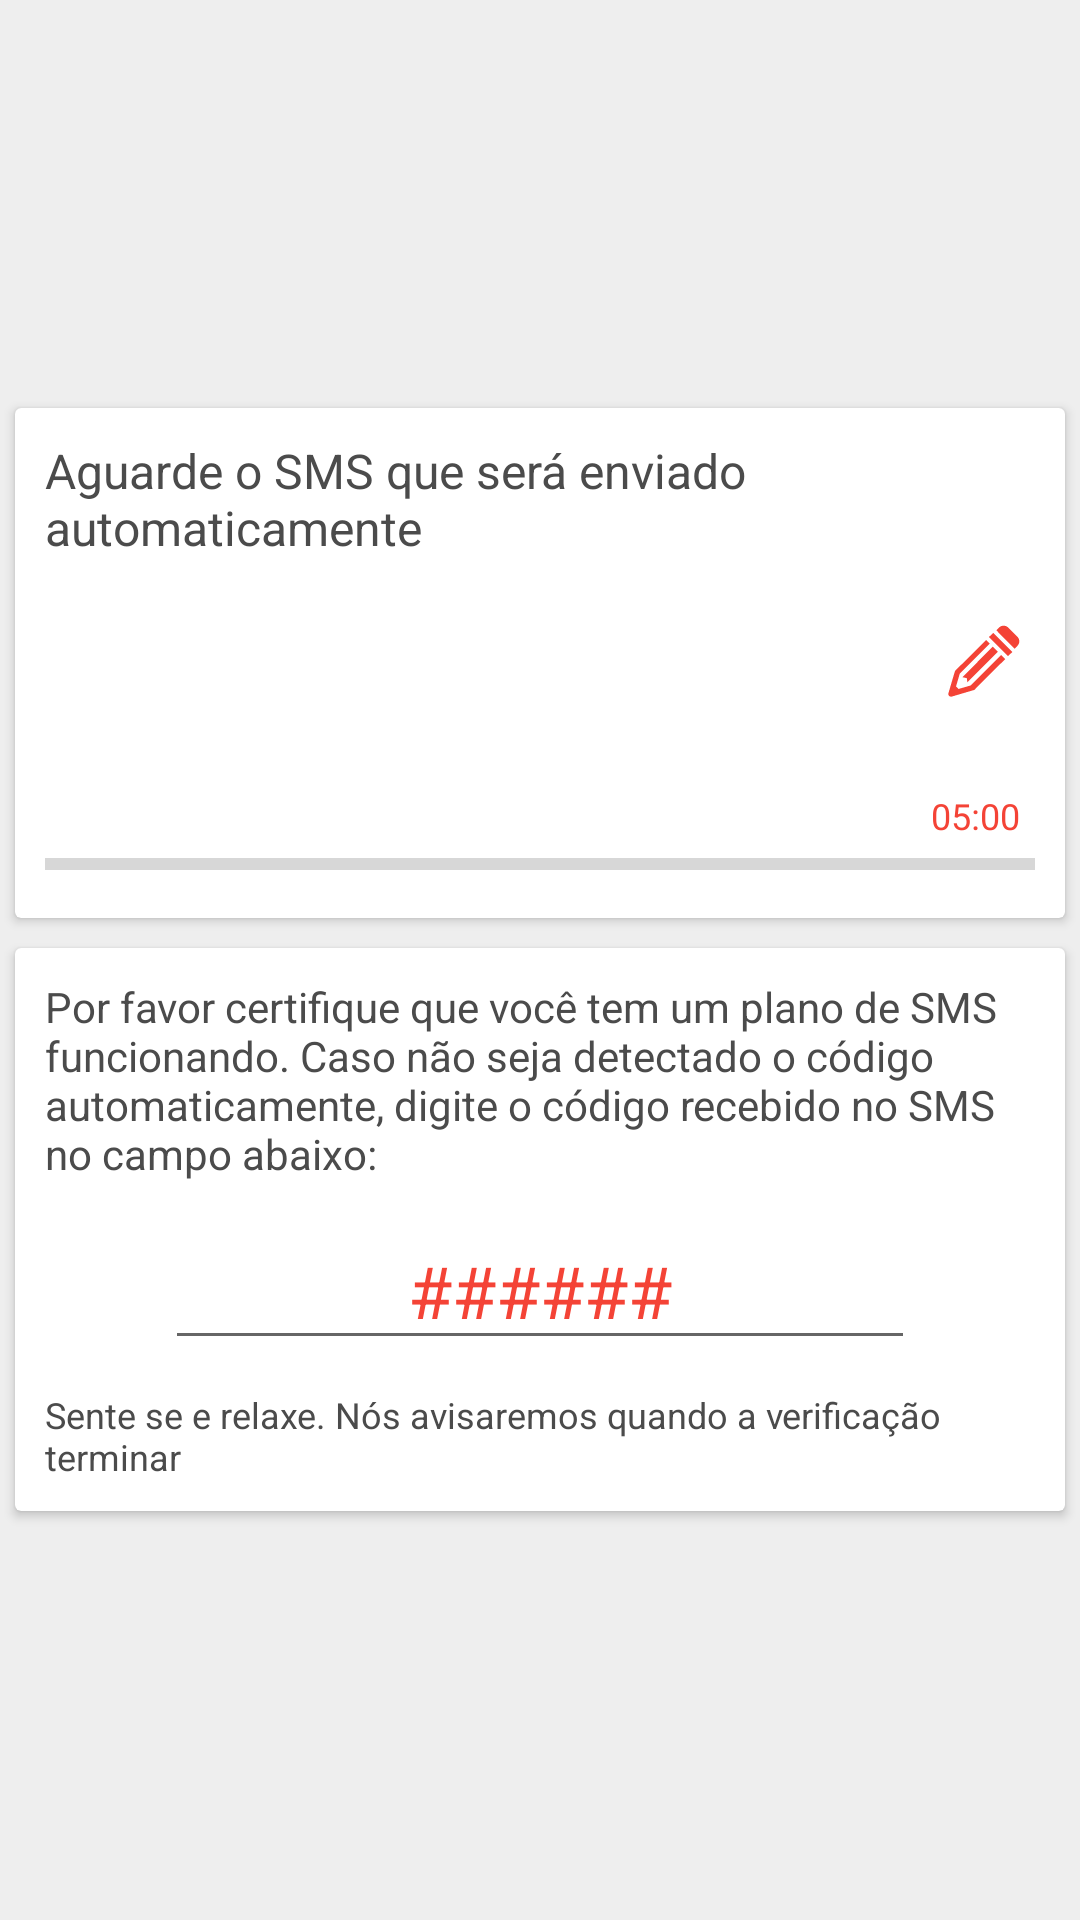

Icon bounding boxes for this 1080 x 1920 phone screenshot, format box=[x1, y1, x2, y2]:
edit: box=[948, 625, 1020, 697]
